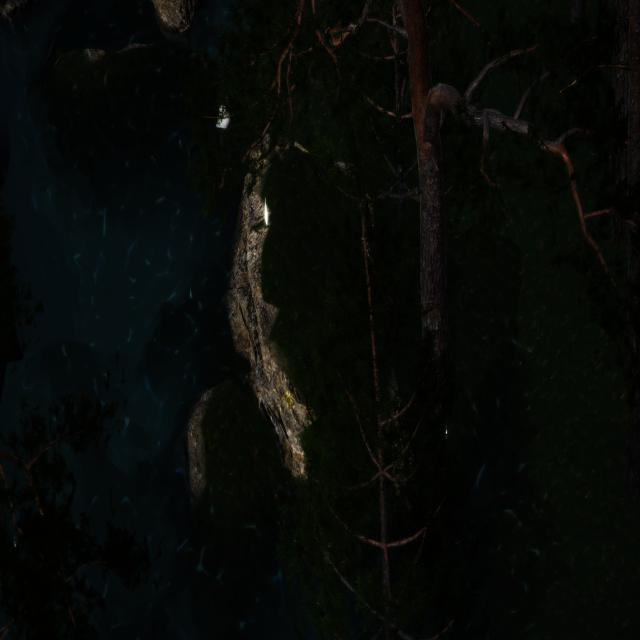Human: (174, 89, 238, 182)
